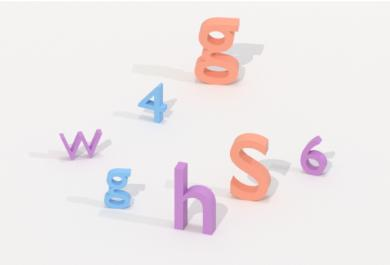4: (135, 78, 171, 127)
6: (298, 134, 329, 180)
S: (225, 130, 275, 206)
W: (57, 125, 105, 165)
g: (191, 12, 245, 90), (102, 165, 134, 213)
h: (170, 158, 220, 239)
